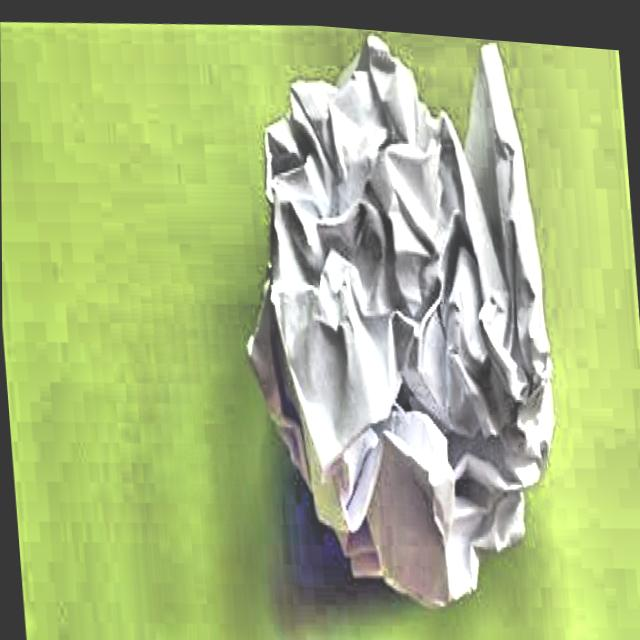Paper: (219, 14, 571, 635)
